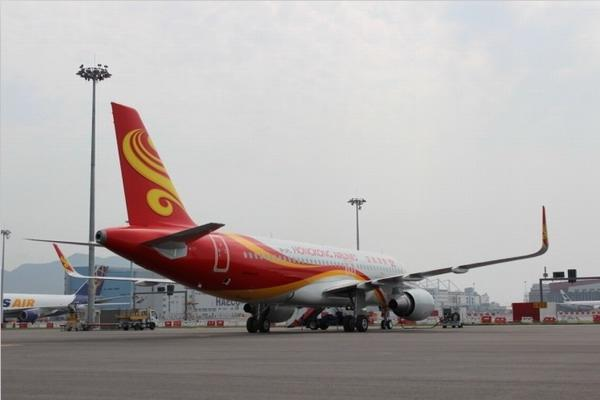airplane: (92, 96, 556, 318)
